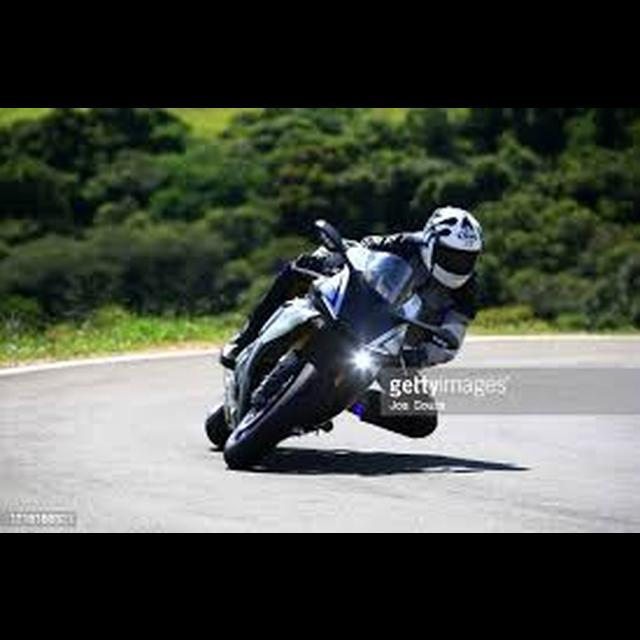motorcycle: (203, 215, 444, 472)
